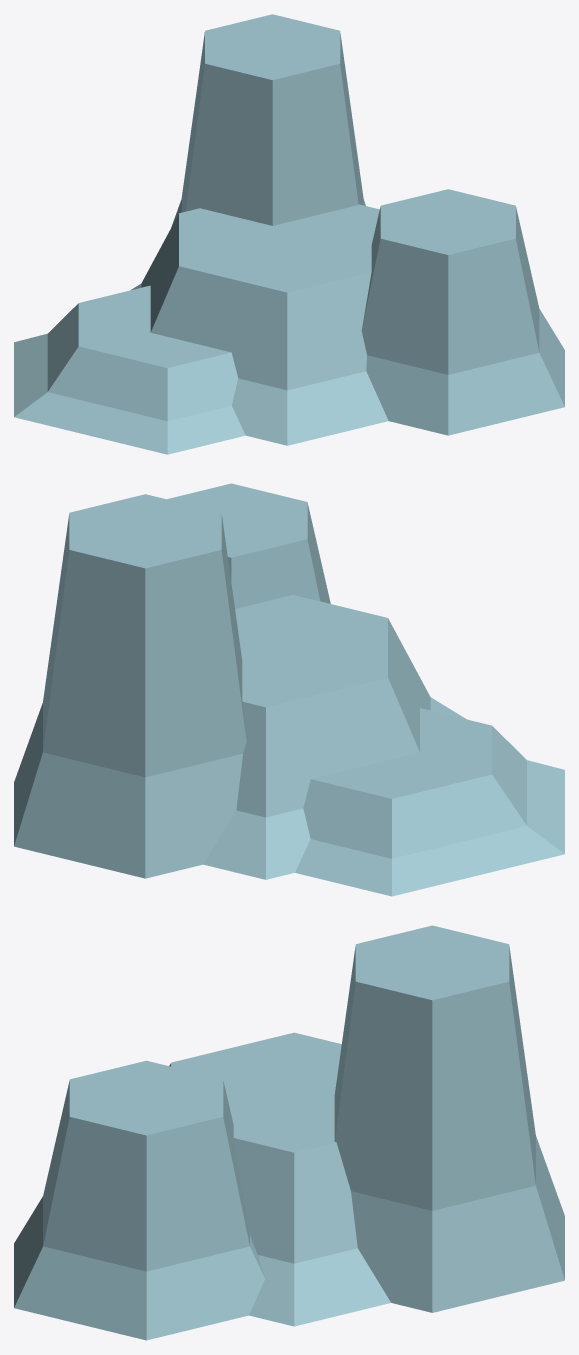
The model's file is rocks.fbx.
3 views of the same model, one above another, from view 1: azimuth 30°, elevation 25°; view 2: azimuth 150°, elevation 25°; view 3: azimuth 270°, elevation 25° (orthographic). The views are drawn at different scales.
Parts seen in each view (by area): view 1: rocks; view 2: rocks; view 3: rocks.
Part boxes in pixels (x1,y1,x2,y2): rocks: (14, 14, 564, 454); rocks: (14, 483, 564, 896); rocks: (14, 925, 564, 1340).
Size of the model in its own units: 9.34 by 4.66 by 8.15.
